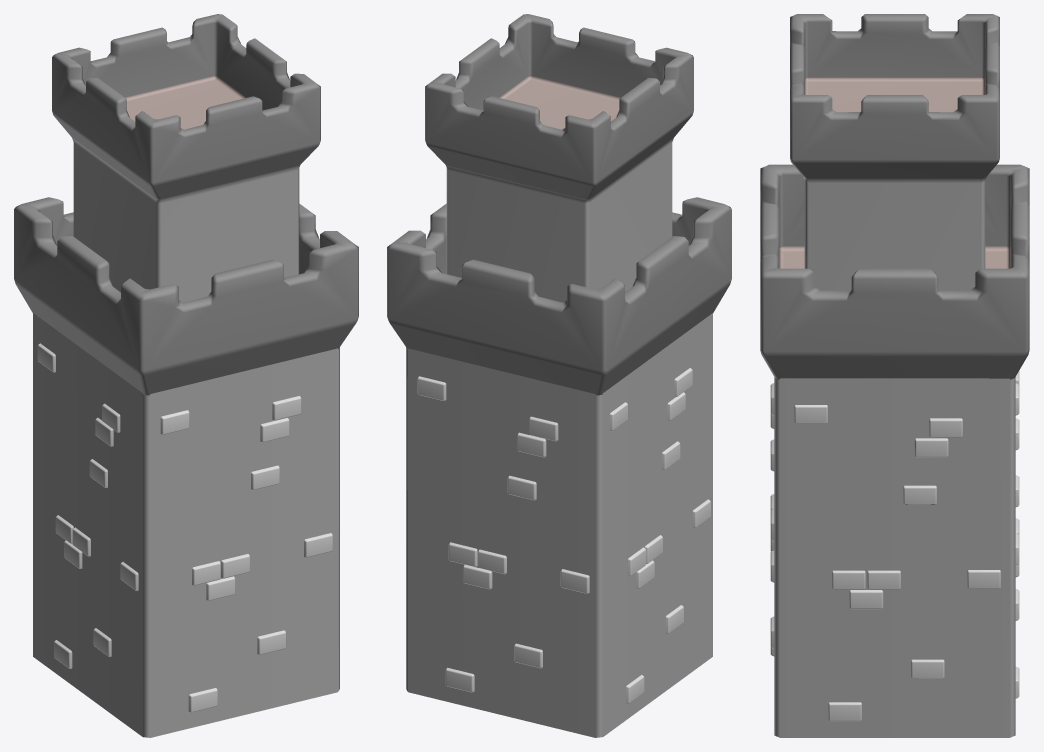
File: castle_tower_007.gltf
3 renders of one model, left to right at view 1: azimuth 30°, elevation 25°; view 2: azimuth 150°, elevation 25°; view 3: azimuth 270°, elevation 25°, orthographic. The views are drawn at different scales.
Parts seen in each view (by area): view 1: castle_tower_007; view 2: castle_tower_007; view 3: castle_tower_007.
Boxes of the visible parts, bbox=[...] form: castle_tower_007: bbox=[14, 14, 358, 737]; castle_tower_007: bbox=[387, 14, 731, 737]; castle_tower_007: bbox=[760, 14, 1029, 737].
Bounding box in the file's own units: 3.9 × 10.21 × 3.95.
Materials: 1 (1 with a texture image).
